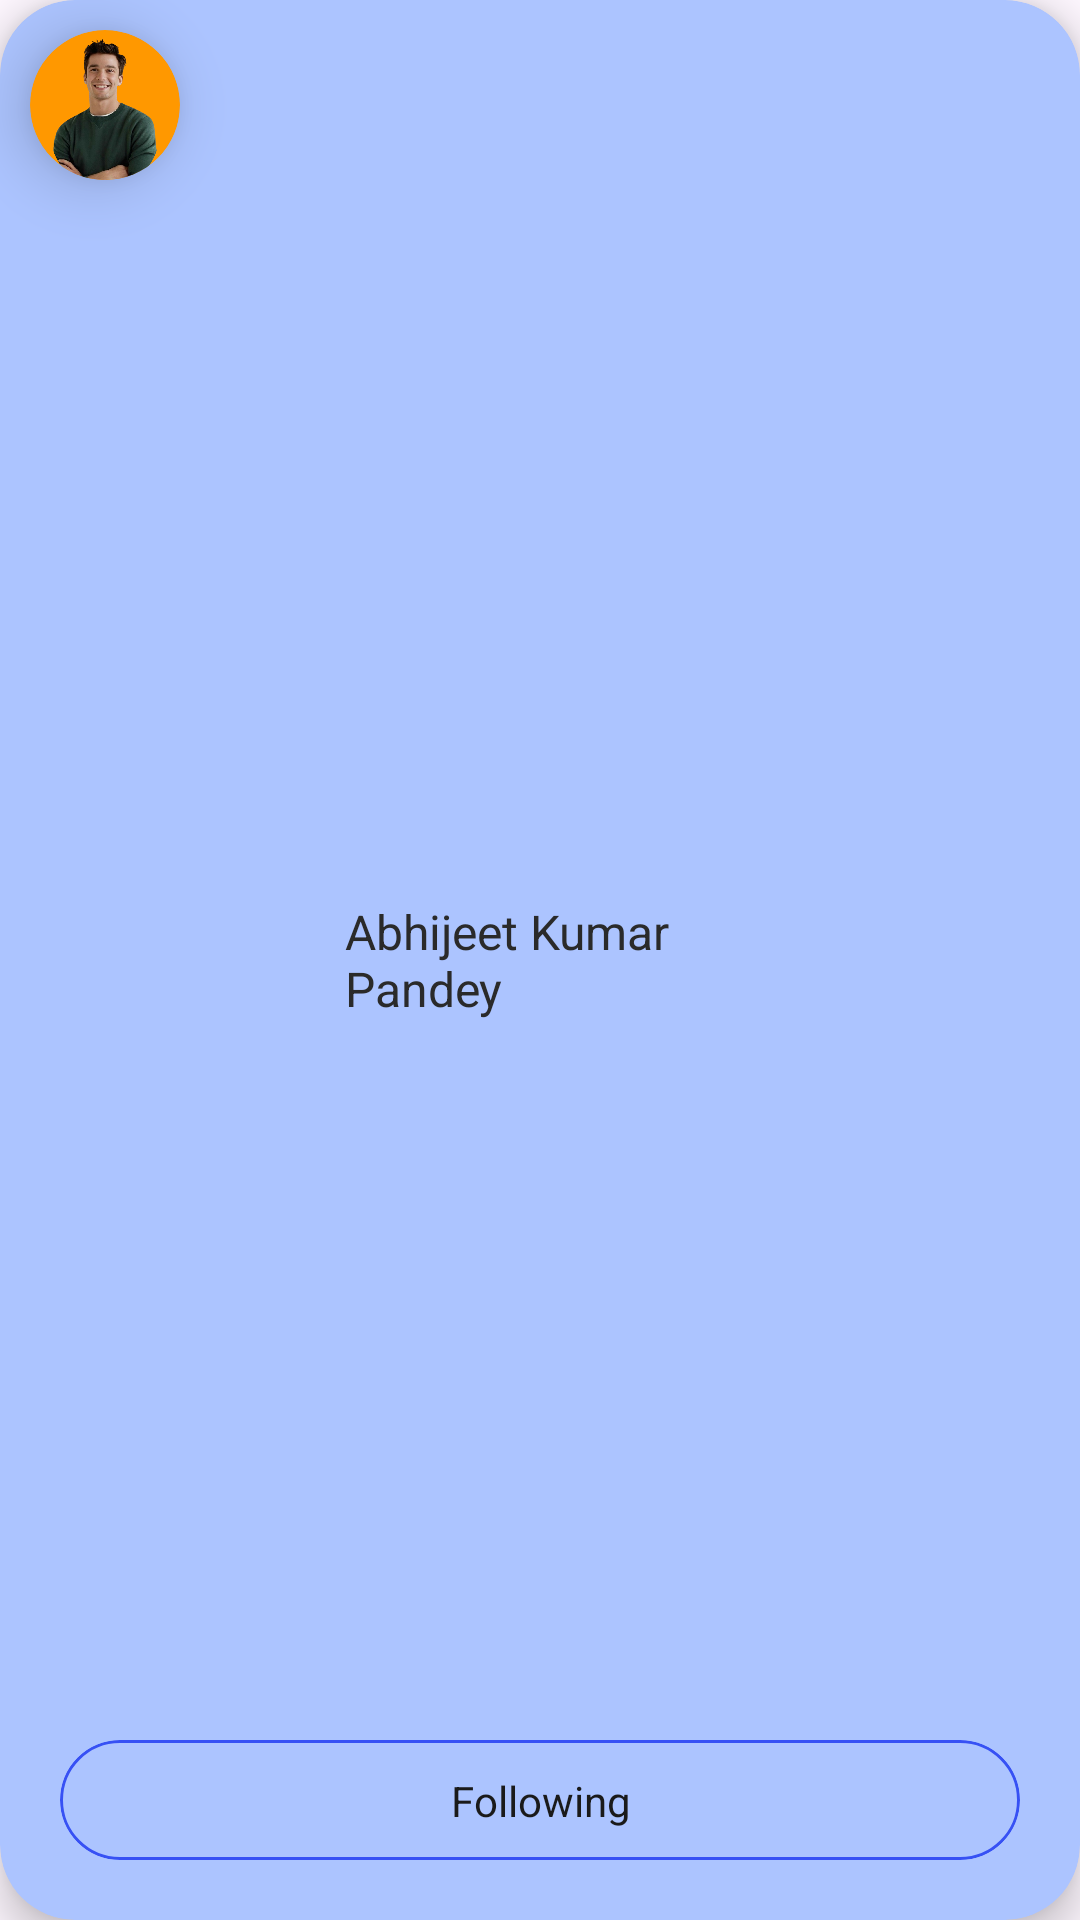

Icon bounding boxes for this 1080 x 1920 phone screenshot, format (x1, y1, x2, y2):
profile: (30, 39, 180, 180)
